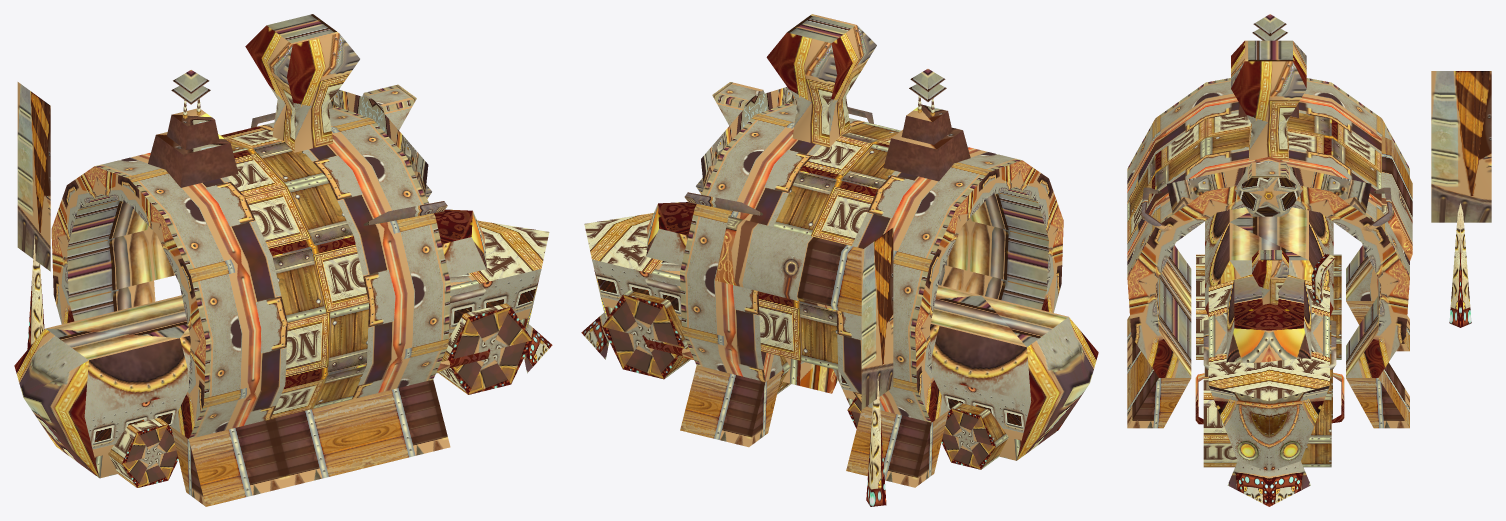
The picture shows the model from 3 angles, left to right: view 1: azimuth 30°, elevation 25°; view 2: azimuth 150°, elevation 25°; view 3: azimuth 270°, elevation 25°; orthographic projection. The views are drawn at different scales.
Parts seen in each view (by area): view 1: objpolySurface53; view 2: objpolySurface53; view 3: objpolySurface53.
Part boxes in pixels (x1,y1,x2,y2): objpolySurface53: (14,14,552,506); objpolySurface53: (581,14,1098,506); objpolySurface53: (1127,14,1491,506).
Size of the model in its own units: 693 by 475 by 452.
Materials: 1 (1 with a texture image).
